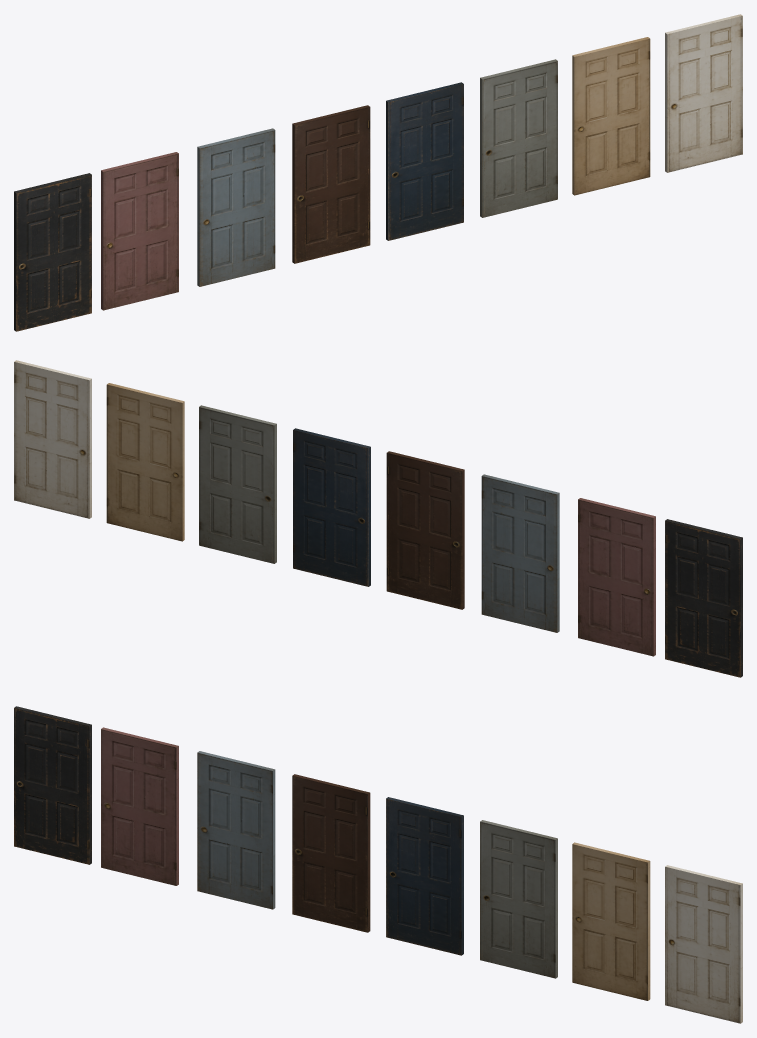
The model's file is FREE Door Pack 01.fbx.
3 renders of one model, top to bottom at view 1: azimuth 30°, elevation 25°; view 2: azimuth 150°, elevation 25°; view 3: azimuth 330°, elevation 25°, orthographic.
Visible parts, largest first — view 1: WhiteDoor_6, WhiteDoor_2, WhiteDoor_5, WhiteDoor_1, WhiteDoor_3, WhiteDoor_7, WhiteDoor_8, WhiteDoor_4; view 2: WhiteDoor_6, WhiteDoor_2, WhiteDoor_5, WhiteDoor_1, WhiteDoor_3, WhiteDoor_7, WhiteDoor_8, WhiteDoor_4; view 3: WhiteDoor_6, WhiteDoor_2, WhiteDoor_5, WhiteDoor_1, WhiteDoor_3, WhiteDoor_7, WhiteDoor_8, WhiteDoor_4.
Boxes of the visible parts, x1,y1,x2,y2 form: WhiteDoor_6: (197, 128, 275, 286); WhiteDoor_2: (572, 37, 650, 195); WhiteDoor_5: (292, 105, 370, 263); WhiteDoor_1: (665, 14, 742, 172); WhiteDoor_3: (480, 59, 557, 217); WhiteDoor_7: (101, 152, 178, 310); WhiteDoor_8: (14, 173, 91, 331); WhiteDoor_4: (386, 82, 463, 240); WhiteDoor_6: (481, 474, 559, 632); WhiteDoor_2: (106, 383, 184, 541); WhiteDoor_5: (386, 451, 464, 609); WhiteDoor_1: (14, 360, 91, 518); WhiteDoor_3: (199, 405, 276, 563); WhiteDoor_7: (578, 498, 655, 656); WhiteDoor_8: (665, 519, 742, 677); WhiteDoor_4: (293, 428, 370, 586); WhiteDoor_6: (197, 751, 275, 909); WhiteDoor_2: (572, 842, 650, 1000); WhiteDoor_5: (292, 774, 370, 932); WhiteDoor_1: (665, 865, 742, 1023); WhiteDoor_3: (480, 820, 557, 978); WhiteDoor_7: (101, 727, 178, 885); WhiteDoor_8: (14, 706, 91, 864); WhiteDoor_4: (386, 797, 463, 955).
Size of the model in its own units: 55.82 by 10.17 by 0.3031.
Materials: 1 (1 with a texture image).
